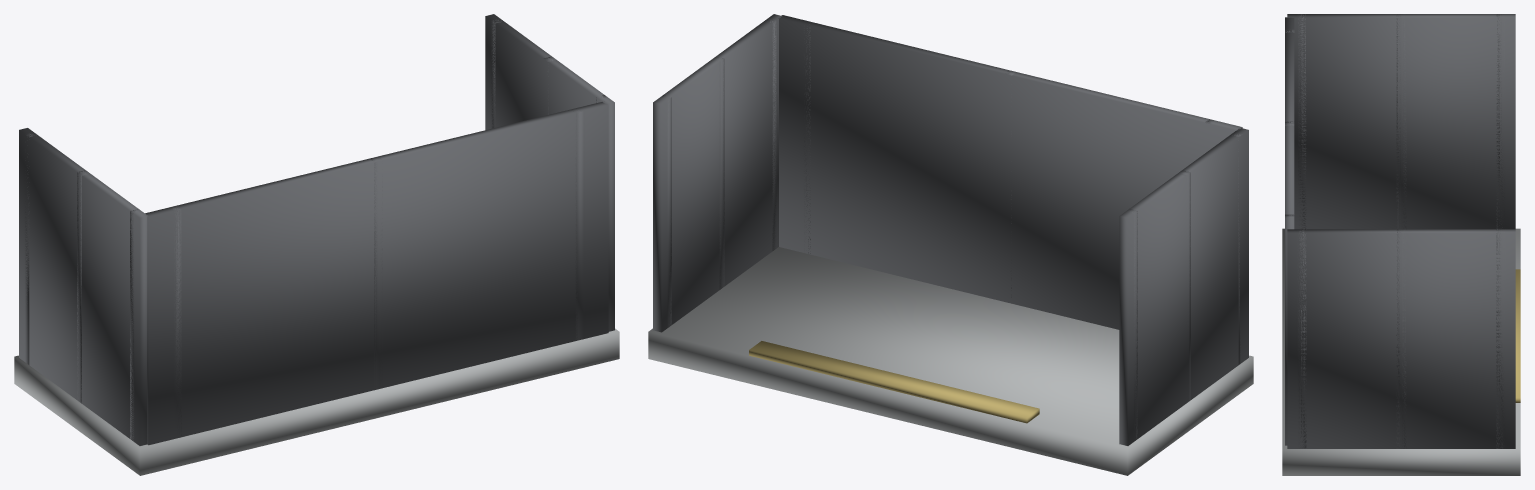
Rendered from floor_w220_d100_three.glb.
3 renders of one model, left to right at view 1: azimuth 30°, elevation 25°; view 2: azimuth 150°, elevation 25°; view 3: azimuth 270°, elevation 25°, orthographic. The views are drawn at different scales.
Visible parts, largest first — view 1: world; view 2: world; view 3: world.
Part boxes in pixels (left/top/right/bottom): world: left=14, top=14, right=619, bottom=475; world: left=648, top=14, right=1253, bottom=475; world: left=1282, top=14, right=1520, bottom=475.
Size of the model in its own units: 2.2 by 1.12 by 1.
